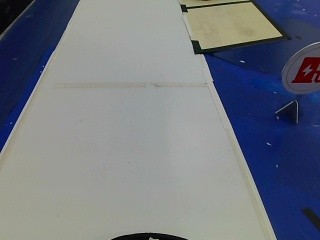battery: (282, 47, 318, 93)
